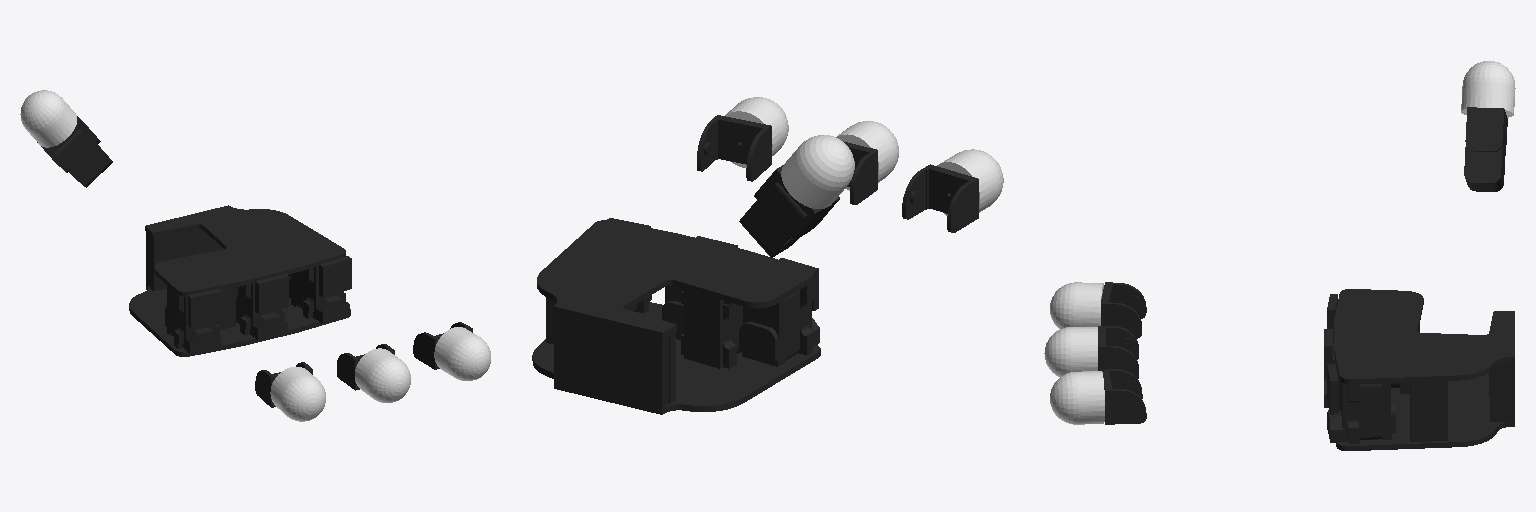
robot.urdf — allegro_hand:
<?xml version="1.0" ?>
<robot name="allegro_hand" xmlns:xacro="http://www.ros.org/wiki/xacro">

  <link name="world"/>

  <joint name="base_to_world" type="fixed">
    <origin rpy="-1.5708 0.785398 3.1416" xyz="0 0 0"/>
    <parent link="world"/>
    <child link="base_link"/>
  </joint>

  <link name="base_link"/>

  <joint name="palm_to_base" type="fixed">
    <origin rpy="0 -1.5708 0.785398" xyz="-0.008219 -0.02063 0.05786"/>
    <parent link="base_link"/>
    <child link="palm_link"/>
  </joint>

<!-- Allegro links -->
  <link name="palm_link">
    <inertial>
      <mass value="0.4154"/>
      <origin rpy="0 0 0" xyz="0 0 0"/>
      <inertia ixx="1e-4" ixy="0" ixz="0" iyy="1e-4" iyz="0" izz="1e-4"/>
    </inertial>
    <visual>
      <geometry>
        <mesh filename="kuka_allegro_description/meshes/allegro/palm_link.stl"/>
      </geometry>
      <origin rpy="0 0 0" xyz="0 0 0 "/>
      <material name="Black">
        <color rgba="0.2 0.2 0.2 1"/>
      </material>
    </visual>
    <collision>
      <origin rpy="0 0 0" xyz="0 0 0"/>
      <geometry>
        <mesh filename="kuka_allegro_description/meshes/allegro/palm_link.stl"/>
      </geometry>
    </collision>
  </link>

  <link name="index_link_0">
    <collision>
      <geometry>
        <mesh filename="kuka_allegro_description/meshes/allegro/primary_base.stl"/>
      </geometry>
    </collision>
    <inertial>
      <mass value="0.005"/>
      <inertia ixx="5.1458e-5" ixy="0" ixz="0" iyy="5.1458e-5" iyz="0" izz="6.125e-5"/>
    </inertial>
    <visual>
      <geometry>
        <mesh filename="kuka_allegro_description/meshes/allegro/primary_base.stl"/>
      </geometry>
      <material name="Black">
        <color rgba="0.2 0.2 0.2 1"/>
      </material>
    </visual>
  </link>

  <link name="index_link_1">
    <collision>
      <geometry>
        <mesh filename="kuka_allegro_description/meshes/allegro/primary_proximal.stl"/>
      </geometry>
    </collision>
    <inertial>
      <mass value="0.005"/>
      <inertia ixx="5.1458e-5" ixy="0" ixz="0" iyy="5.1458e-5" iyz="0" izz="6.125e-5"/>
    </inertial>
    <visual>
      <geometry>
        <mesh filename="kuka_allegro_description/meshes/allegro/primary_proximal.stl"/>
      </geometry>
      <material name="Black">
        <color rgba="0.2 0.2 0.2 1"/>
      </material>
    </visual>
  </link>

  <link name="index_link_2">
    <collision>
      <geometry>
        <mesh filename="kuka_allegro_description/meshes/allegro/primary_medial.stl"/>
      </geometry>
    </collision>
    <inertial>
      <mass value="0.05"/>
      <inertia ixx="5.1458e-5" ixy="0" ixz="0" iyy="5.1458e-5" iyz="0" izz="6.125e-5"/>
    </inertial>
    <visual>
      <geometry>
        <mesh filename="kuka_allegro_description/meshes/allegro/primary_medial.stl"/>
      </geometry>
      <material name="Black">
        <color rgba="0.2 0.2 0.2 1"/>
      </material>
    </visual>
  </link>

  <link name="index_link_3">
    <collision>
      <geometry>
        <mesh filename="kuka_allegro_description/meshes/fingertips/link_finger.stl"/>
      </geometry>
    </collision>
    <inertial>
      <mass value="0.11"/>
      <inertia ixx="5.1458e-5" ixy="0" ixz="0" iyy="5.1458e-5" iyz="0" izz="6.125e-5"/>
    </inertial>
    <visual>
      <origin xyz="0 0 0" rpy="1.570795 0 1.570795" />
      <geometry>
        <mesh filename="kuka_allegro_description/meshes/fingertips/link_finger.stl"/>
      </geometry>
      <material name="Black">
        <color rgba="0.2 0.2 0.2 1"/>
      </material>
    </visual>
  </link>

  <link name="index_tip">
    <inertial>
      <mass value="0.04"/>
      <inertia ixx="5.1458e-5" ixy="0" ixz="0" iyy="5.1458e-5" iyz="0" izz="6.125e-5"/>
    </inertial>
    <visual>
      <geometry>
        <mesh filename="kuka_allegro_description/meshes/fingertips/tip_coarse.stl"/>
      </geometry>
      <material name="White">
        <color rgba="0.9 0.9 0.9 1"/>
      </material>
    </visual>
    <collision>
      <geometry>
        <sphere radius="0.014"/>
      </geometry>
    </collision>
  </link>

  <link name="middle_link_0">
    <collision>
      <geometry>
        <mesh filename="kuka_allegro_description/meshes/allegro/primary_base.stl"/>
      </geometry>
    </collision>
    <inertial>
      <mass value="0.1"/>
      <inertia ixx="5.1458e-5" ixy="0" ixz="0" iyy="5.1458e-5" iyz="0" izz="6.125e-5"/>
    </inertial>
    <visual>
      <geometry>
        <mesh filename="kuka_allegro_description/meshes/allegro/primary_base.stl"/>
      </geometry>
      <material name="Black">
        <color rgba="0.2 0.2 0.2 1"/>
      </material>
    </visual>
  </link>

  <link name="middle_link_1">
    <collision>
      <geometry>
        <mesh filename="kuka_allegro_description/meshes/allegro/primary_proximal.stl"/>
      </geometry>
    </collision>
    <inertial>
      <mass value="0.1"/>
      <inertia ixx="5.1458e-5" ixy="0" ixz="0" iyy="5.1458e-5" iyz="0" izz="6.125e-5"/>
    </inertial>
    <visual>
      <geometry>
        <mesh filename="kuka_allegro_description/meshes/allegro/primary_proximal.stl"/>
      </geometry>
      <material name="Black">
        <color rgba="0.2 0.2 0.2 1"/>
      </material>
    </visual>
  </link>

  <link name="middle_link_2">
    <collision>
      <geometry>
        <mesh filename="kuka_allegro_description/meshes/allegro/primary_medial.stl"/>
      </geometry>
    </collision>
    <inertial>
      <mass value="0.1"/>
      <inertia ixx="5.1458e-5" ixy="0" ixz="0" iyy="5.1458e-5" iyz="0" izz="6.125e-5"/>
    </inertial>
    <visual>
      <geometry>
        <mesh filename="kuka_allegro_description/meshes/allegro/primary_medial.stl"/>
      </geometry>
      <material name="Black">
        <color rgba="0.2 0.2 0.2 1"/>
      </material>
    </visual>
  </link>

  <link name="middle_link_3">
    <collision>
      <geometry>
        <mesh filename="kuka_allegro_description/meshes/fingertips/link_finger.stl"/>
      </geometry>
    </collision>
    <inertial>
      <mass value="0.1"/>
      <inertia ixx="5.1458e-5" ixy="0" ixz="0" iyy="5.1458e-5" iyz="0" izz="6.125e-5"/>
    </inertial>
    <visual>
      <origin xyz="0 0 0" rpy="1.570795 0 1.570795" />
      <geometry>
        <mesh filename="kuka_allegro_description/meshes/fingertips/link_finger.stl"/>
      </geometry>
      <material name="Black">
        <color rgba="0.2 0.2 0.2 1"/>
      </material>
    </visual>
  </link>

  <link name="middle_tip">
    <inertial>
      <mass value="0.1"/>
      <inertia ixx="5.1458e-5" ixy="0" ixz="0" iyy="5.1458e-5" iyz="0" izz="6.125e-5"/>
    </inertial>
    <visual>
      <geometry>
        <mesh filename="kuka_allegro_description/meshes/fingertips/tip_coarse.stl"/>
      </geometry>
      <material name="White">
        <color rgba="0.9 0.9 0.9 1"/>
      </material>
    </visual>
    <collision>
      <geometry>
        <sphere radius="0.014"/>
      </geometry>
    </collision>
  </link>

  <link name="ring_link_0">
    <collision>
      <geometry>
        <mesh filename="kuka_allegro_description/meshes/allegro/primary_base.stl"/>
      </geometry>
    </collision>
    <inertial>
      <mass value="0.1"/>
      <inertia ixx="5.1458e-5" ixy="0" ixz="0" iyy="5.1458e-5" iyz="0" izz="6.125e-5"/>
    </inertial>
    <visual>
      <geometry>
        <mesh filename="kuka_allegro_description/meshes/allegro/primary_base.stl"/>
      </geometry>
      <material name="Black">
        <color rgba="0.2 0.2 0.2 1"/>
      </material>
    </visual>
  </link>

  <link name="ring_link_1">
    <collision>
      <geometry>
        <mesh filename="kuka_allegro_description/meshes/allegro/primary_proximal.stl"/>
      </geometry>
    </collision>
    <inertial>
      <mass value="0.1"/>
      <inertia ixx="5.1458e-5" ixy="0" ixz="0" iyy="5.1458e-5" iyz="0" izz="6.125e-5"/>
    </inertial>
    <visual>
      <geometry>
        <mesh filename="kuka_allegro_description/meshes/allegro/primary_proximal.stl"/>
      </geometry>
      <material name="Black">
        <color rgba="0.2 0.2 0.2 1"/>
      </material>
    </visual>
  </link>

  <link name="ring_link_2">
    <collision>
      <geometry>
        <mesh filename="kuka_allegro_description/meshes/allegro/primary_medial.stl"/>
      </geometry>
    </collision>
    <inertial>
      <mass value="0.1"/>
      <inertia ixx="5.1458e-5" ixy="0" ixz="0" iyy="5.1458e-5" iyz="0" izz="6.125e-5"/>
    </inertial>
    <visual>
      <geometry>
        <mesh filename="kuka_allegro_description/meshes/allegro/primary_medial.stl"/>
      </geometry>
      <material name="Black">
        <color rgba="0.2 0.2 0.2 1"/>
      </material>
    </visual>
  </link>

  <link name="ring_link_3">
    <collision>
      <geometry>
        <mesh filename="kuka_allegro_description/meshes/fingertips/link_finger.stl"/>
      </geometry>
    </collision>
    <inertial>
      <mass value="0.1"/>
      <inertia ixx="5.1458e-5" ixy="0" ixz="0" iyy="5.1458e-5" iyz="0" izz="6.125e-5"/>
    </inertial>
    <visual>
      <origin xyz="0 0 0" rpy="1.570795 0 1.570795" />
      <geometry>
        <mesh filename="kuka_allegro_description/meshes/fingertips/link_finger.stl"/>
      </geometry>
      <material name="Black">
        <color rgba="0.2 0.2 0.2 1"/>
      </material>
    </visual>
  </link>

  <link name="ring_tip">
    <inertial>
      <mass value="0.1"/>
      <inertia ixx="5.1458e-5" ixy="0" ixz="0" iyy="5.1458e-5" iyz="0" izz="6.125e-5"/>
    </inertial>
    <visual>
      <geometry>
        <mesh filename="kuka_allegro_description/meshes/fingertips/tip_coarse.stl"/>
      </geometry>
      <material name="White">
        <color rgba="0.9 0.9 0.9 1"/>
      </material>
    </visual>
    <collision>
      <geometry>
        <sphere radius="0.014"/>
      </geometry>
    </collision>
  </link>

  <link name="thumb_link_0">
    <collision>
      <geometry>
        <mesh filename="kuka_allegro_description/meshes/allegro/thumb_base.stl"/>
      </geometry>
    </collision>
    <inertial>
      <mass value="0.1"/>
      <inertia ixx="5.1458e-5" ixy="0" ixz="0" iyy="5.1458e-5" iyz="0" izz="6.125e-5"/>
    </inertial>
    <visual>
      <geometry>
        <mesh filename="kuka_allegro_description/meshes/allegro/thumb_base.stl"/>
      </geometry>
      <material name="Black">
        <color rgba="0.2 0.2 0.2 1"/>
      </material>
    </visual>
  </link>

  <link name="thumb_link_1">
    <collision>
      <geometry>
        <mesh filename="kuka_allegro_description/meshes/allegro/thumb_proximal.stl"/>
      </geometry>
    </collision>
    <inertial>
      <mass value="0.1"/>
      <inertia ixx="5.1458e-5" ixy="0" ixz="0" iyy="5.1458e-5" iyz="0" izz="6.125e-5"/>
    </inertial>
    <visual>
      <geometry>
        <mesh filename="kuka_allegro_description/meshes/allegro/thumb_proximal.stl"/>
      </geometry>
      <material name="Black">
        <color rgba="0.2 0.2 0.2 1"/>
      </material>
    </visual>
  </link>

  <link name="thumb_link_2">
    <collision>
      <geometry>
        <mesh filename="kuka_allegro_description/meshes/allegro/thumb_medial.stl"/>
      </geometry>
    </collision>
    <inertial>
      <mass value="0.1"/>
      <inertia ixx="5.1458e-5" ixy="0" ixz="0" iyy="5.1458e-5" iyz="0" izz="6.125e-5"/>
    </inertial>
    <visual>
      <geometry>
        <mesh filename="kuka_allegro_description/meshes/allegro/thumb_medial.stl"/>
      </geometry>
      <material name="Black">
        <color rgba="0.2 0.2 0.2 1"/>
      </material>
    </visual>
  </link>

  <link name="thumb_link_3">
    <collision>
      <geometry>
        <mesh filename="kuka_allegro_description/meshes/fingertips/link_thumb.stl"/>
      </geometry>
    </collision>
    <inertial>
      <mass value="0.1"/>
      <inertia ixx="5.1458e-5" ixy="0" ixz="0" iyy="5.1458e-5" iyz="0" izz="6.125e-5"/>
    </inertial>
    <visual>
      <origin xyz="0 0 0" rpy="1.570795 0 1.570795" />
      <geometry>
        <mesh filename="kuka_allegro_description/meshes/fingertips/link_thumb.stl"/>
      </geometry>
      <material name="Black">
        <color rgba="0.2 0.2 0.2 1"/>
      </material>
    </visual>
  </link>

  <link name="thumb_tip">
    <inertial>
      <mass value="0.1"/>
      <inertia ixx="5.1458e-5" ixy="0" ixz="0" iyy="5.1458e-5" iyz="0" izz="6.125e-5"/>
    </inertial>
    <visual>
      <geometry>
        <mesh filename="kuka_allegro_description/meshes/fingertips/tip_coarse.stl"/>
      </geometry>
      <material name="White">
        <color rgba="0.9 0.9 0.9 1"/>
      </material>
    </visual>
    <collision>
      <geometry>
        <sphere radius="0.014"/>
      </geometry>
    </collision>
  </link>


<!-- Allegro joints -->
  <joint name="index_joint_0" type="revolute">
    <axis xyz="0 0 1"/>
    <limit effort="0.35" lower="-0.558488888889" upper="0.558488888889" velocity="6.283"/>
    <origin rpy="3.1415 -1.57075 -0.0872638888889" xyz="0.0514302 -0.03632 -0.0113"/>
    <parent link="palm_link"/>
    <child link="index_link_0"/>
    <dynamics damping="0.025" friction="0.035"/>
  </joint>

  <joint name="index_joint_1" type="revolute">
    <axis xyz="0 0 1"/>
    <limit effort="0.35" lower="-0.279244444444" upper="1.727825" velocity="6.283"/>
    <origin rpy="3.1415 -1.57075 1.57075" xyz="0.0 0.0 0.0"/>
    <parent link="index_link_0"/>
    <child link="index_link_1"/>
    <dynamics damping="0.025" friction="0.035"/>
  </joint>

  <joint name="index_joint_2" type="revolute">
    <axis xyz="0 0 1"/>
    <limit effort="0.35" lower="-0.279244444444" upper="1.727825" velocity="6.283"/>
    <origin rpy="0.0 0.0 0.0" xyz="0.054 0.0 0.0"/>
    <parent link="index_link_1"/>
    <child link="index_link_2"/>
    <dynamics damping="0.025" friction="0.035"/>
  </joint>

  <joint name="index_joint_3" type="revolute">
    <axis xyz="0 0 1"/>
    <limit effort="0.35" lower="-0.279244444444" upper="1.727825" velocity="6.283"/>
    <origin rpy="0.0 0.0 0.0" xyz="0.0384 0.0 0.0"/>
    <parent link="index_link_2"/>
    <child link="index_link_3"/>
    <dynamics damping="0.025" friction="0.035"/>
  </joint>

  <joint name="index_tip_joint" type="fixed">
    <origin rpy="1.57079 1.57079 1.57079" xyz="0.0157 0 0"/>
    <parent link="index_link_3"/>
    <child link="index_tip"/>
  </joint>

  <joint name="middle_joint_0" type="revolute">
    <axis xyz="0 0 1"/>
    <limit effort="0.35" lower="-0.558488888889" upper="0.558488888889" velocity="6.283"/>
    <origin rpy="3.1415 -1.57075 0" xyz="0.0537375 0.0087771 -0.0113"/>
    <parent link="palm_link"/>
    <child link="middle_link_0"/>
    <dynamics friction="0.035"/>
  </joint>

  <joint name="middle_joint_1" type="revolute">
    <axis xyz="0 0 1"/>
    <limit effort="0.35" lower="-0.279244444444" upper="1.727825" velocity="6.283"/>
    <origin rpy="3.1415 -1.57075 1.57075" xyz="0.0 0.0 0.0"/>
    <parent link="middle_link_0"/>
    <child link="middle_link_1"/>
    <dynamics friction="0.035"/>
  </joint>
  <joint name="middle_joint_2" type="revolute">
    <axis xyz="0 0 1"/>
    <limit effort="0.35" lower="-0.279244444444" upper="1.727825" velocity="6.283"/>
    <origin rpy="0.0 0.0 0.0" xyz="0.054 0.0 0.0"/>
    <parent link="middle_link_1"/>
    <child link="middle_link_2"/>
    <dynamics friction="0.035"/>
  </joint>

  <joint name="middle_joint_3" type="revolute">
    <axis xyz="0 0 1"/>
    <limit effort="0.35" lower="-0.279244444444" upper="1.727825" velocity="6.283"/>
    <origin rpy="0.0 0.0 0.0" xyz="0.0384 0.0 0.0"/>
    <parent link="middle_link_2"/>
    <child link="middle_link_3"/>
    <dynamics friction="0.035"/>
  </joint>

  <joint name="middle_tip_joint" type="fixed">
    <origin rpy="1.57079 1.57079 1.57079" xyz="0.0157 0 0"/>
    <parent link="middle_link_3"/>
    <child link="middle_tip"/>
  </joint>

  <joint name="ring_joint_0" type="revolute">
    <axis xyz="0 0 1"/>
    <limit effort="0.35" lower="-0.558488888889" upper="0.558488888889" velocity="6.283"/>
    <origin rpy="3.1415 -1.57075 0.0872638888889" xyz="0.0514302 0.0538749 -0.0113"/>
    <parent link="palm_link"/>
    <child link="ring_link_0"/>
    <dynamics friction="0.035"/>
  </joint>

  <joint name="ring_joint_1" type="revolute">
    <axis xyz="0 0 1"/>
    <limit effort="0.35" lower="-0.279244444444" upper="1.727825" velocity="6.283"/>
    <origin rpy="3.1415 -1.57075 1.57075" xyz="0.0 0.0 0.0"/>
    <parent link="ring_link_0"/>
    <child link="ring_link_1"/>
    <dynamics friction="0.035"/>
  </joint>

  <joint name="ring_joint_2" type="revolute">
    <axis xyz="0 0 1"/>
    <limit effort="0.35" lower="-0.279244444444" upper="1.727825" velocity="6.283"/>
    <origin rpy="0.0 0.0 0.0" xyz="0.054 0.0 0.0"/>
    <parent link="ring_link_1"/>
    <child link="ring_link_2"/>
    <dynamics friction="0.035"/>
  </joint>

  <joint name="ring_joint_3" type="revolute">
    <axis xyz="0 0 1"/>
    <limit effort="0.35" lower="-0.279244444444" upper="1.727825" velocity="6.283"/>
    <origin rpy="0.0 0.0 0.0" xyz="0.0384 0.0 0.0"/>
    <parent link="ring_link_2"/>
    <child link="ring_link_3"/>
    <dynamics friction="0.035"/>
  </joint>

  <joint name="ring_tip_joint" type="fixed">
    <origin rpy="1.57079 1.57079 1.57079" xyz="0.0157 0 0"/>
    <parent link="ring_link_3"/>
    <child link="ring_tip"/>
  </joint>

  <joint name="thumb_joint_0" type="revolute">
    <axis xyz="0 0 1"/>
    <limit effort="0.35" lower="0.279244444444" upper="1.57075" velocity="6.283"/>
    <origin rpy="-1.57075 -1.57075 1.48348611111" xyz="-0.0367482 -0.0081281 -0.0295"/>
    <parent link="palm_link"/>
    <child link="thumb_link_0"/>
    <dynamics friction="0.035"/>
  </joint>

  <joint name="thumb_joint_1" type="revolute">
    <axis xyz="0 0 1"/>
    <limit effort="0.35" lower="-0.331602777778" upper="1.15188333333" velocity="6.283"/>
    <origin rpy="1.57075 0 0" xyz="0.005 0.0 0.0"/>
    <parent link="thumb_link_0"/>
    <child link="thumb_link_1"/>
    <dynamics friction="0.035"/>
  </joint>

  <joint name="thumb_joint_2" type="revolute">
    <axis xyz="0 0 1"/>
    <limit effort="0.35" lower="-0.279244444444" upper="1.727825" velocity="6.283"/>
    <origin rpy="3.1415 -1.57075 0.0" xyz="0 0 0.0554"/>
    <parent link="thumb_link_1"/>
    <child link="thumb_link_2"/>
    <dynamics friction="0.035"/>
  </joint>

  <joint name="thumb_joint_3" type="revolute">
    <axis xyz="0 0 1"/>
    <limit effort="0.35" lower="-0.279244444444" upper="1.76273055556" velocity="6.283"/>
    <origin rpy="0.0 0.0 0.0" xyz="0.0514 0.0 0.0"/>
    <parent link="thumb_link_2"/>
    <child link="thumb_link_3"/>
    <dynamics friction="0.035"/>
  </joint>

  <joint name="thumb_tip_joint" type="fixed">
    <origin rpy="1.57079 1.57079 1.57079" xyz="0.0313 0 0"/>
    <parent link="thumb_link_3"/>
    <child link="thumb_tip"/>
  </joint>

</robot>

--- Facts derived from the render (not from the file) ---
Views: 3 orthographic renders of the robot side by side, from view 1: azimuth 30°, elevation 25°; view 2: azimuth 150°, elevation 25°; view 3: azimuth 270°, elevation 25°.
Robot: allegro_hand — 23 links, 22 joints (16 revolute, 6 fixed); root link world; default pose: joints at zero except 1 at the middle of their limits (thumb_joint_0 = 0.925).
Visible links, largest first — view 1: palm_link, thumb_tip, ring_tip, middle_tip, index_tip, thumb_link_3, ring_link_3, middle_link_3, index_link_3; view 2: palm_link, thumb_tip, thumb_link_3, index_link_3, ring_link_3, index_tip, middle_tip, ring_tip, middle_link_3; view 3: palm_link, thumb_link_3, ring_tip, thumb_tip, middle_tip, index_tip, ring_link_3, index_link_3, middle_link_3.
Boxes of the visible links, x1=… form: palm_link: x1=129, y1=205, x2=351, y2=356; thumb_tip: x1=20, y1=90, x2=76, y2=147; ring_tip: x1=434, y1=327, x2=490, y2=380; middle_tip: x1=355, y1=348, x2=410, y2=402; index_tip: x1=270, y1=367, x2=325, y2=421; thumb_link_3: x1=37, y1=116, x2=112, y2=187; ring_link_3: x1=413, y1=322, x2=472, y2=369; middle_link_3: x1=337, y1=344, x2=394, y2=390; index_link_3: x1=255, y1=362, x2=312, y2=407; palm_link: x1=532, y1=218, x2=820, y2=414; thumb_tip: x1=781, y1=135, x2=854, y2=208; thumb_link_3: x1=739, y1=165, x2=839, y2=257; index_link_3: x1=902, y1=164, x2=978, y2=232; ring_link_3: x1=697, y1=115, x2=771, y2=181; index_tip: x1=937, y1=149, x2=1003, y2=215; middle_tip: x1=836, y1=121, x2=898, y2=190; ring_tip: x1=725, y1=97, x2=788, y2=167; middle_link_3: x1=843, y1=141, x2=877, y2=204; palm_link: x1=1324, y1=289, x2=1514, y2=450; thumb_link_3: x1=1464, y1=107, x2=1507, y2=191; ring_tip: x1=1050, y1=371, x2=1104, y2=424; thumb_tip: x1=1461, y1=61, x2=1515, y2=117; middle_tip: x1=1044, y1=327, x2=1097, y2=376; index_tip: x1=1050, y1=282, x2=1103, y2=328; ring_link_3: x1=1101, y1=369, x2=1146, y2=424; index_link_3: x1=1101, y1=282, x2=1146, y2=338; middle_link_3: x1=1098, y1=326, x2=1138, y2=378.
Bounding box of the posed robot: 0.1877 × 0.2482 × 0.1497 m (x, y, z).
Meshes: 10 distinct files referenced, 9 mesh visuals loaded (4 binary STL); not drawn: 12 (reference not matched to a file when rendering).